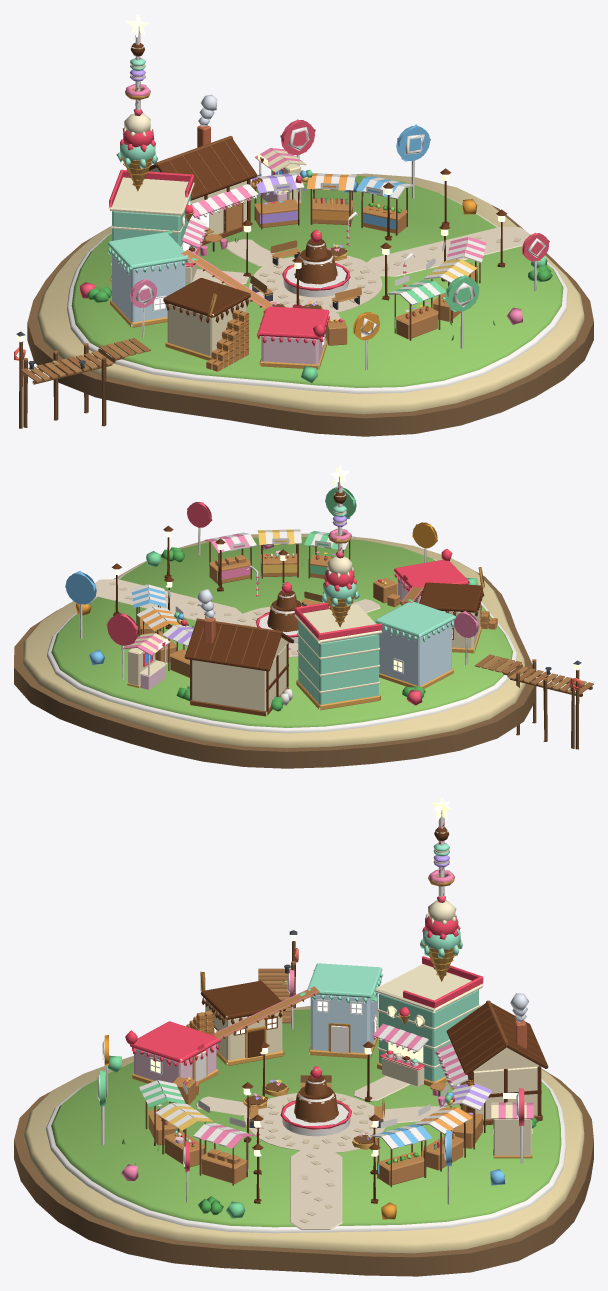
File: vila-doce-media.glb
3 views of the same model, one above another, from view 1: azimuth 30°, elevation 25°; view 2: azimuth 150°, elevation 25°; view 3: azimuth 270°, elevation 25° (orthographic). The views are drawn at different scales.
Parts seen in each view (by area): view 1: ilha-media; view 2: ilha-media; view 3: ilha-media.
Boxes of the visible parts, x1,y1,x2,y2 form: ilha-media: (14,14,593,436); ilha-media: (14,465,593,768); ilha-media: (14,797,593,1276).
Size of the model in its own units: 32.45 by 18 by 28.8.
